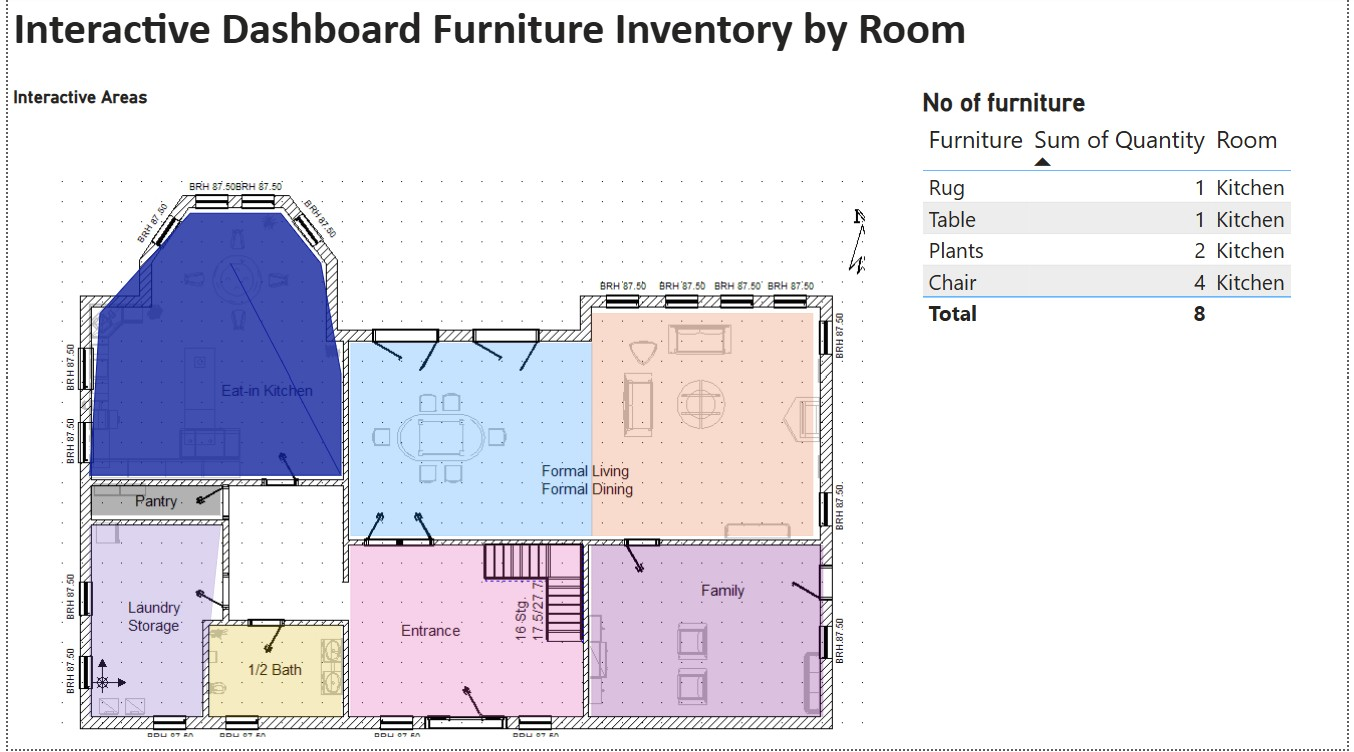

What the dashboard file says about the page in this screenshot:
{"tool":"powerbi","page":{"name":"Page 1","canvas":[1280,720],"ordinal":0},"visuals":[{"type":"tableEx","title":"No of furniture","fields":{"Values":["Furniture.Furniture","Sum(Rooms.Quantity)","Rooms.Room"]},"box":[869.3,88.2,394.1,634.1],"z":0},{"type":"PBI_CV_815282F9_27F5_4950_9430_E910E0A8DB6A","title":"Interactive Areas","fields":{"Category":["Rooms.Room"],"Y":["Sum(Rooms.Quantity)"]},"box":[0,88.2,830.5,631.7],"z":1000},{"type":"textbox","box":[0,0,1279.9,88.2],"z":2000}]}

Visuals, with their boxes in screenshot pixels (x1, y1, x2, y2), scaled from the page's 1280x720 canvas onto the 1354x752 screenshot:
"No of furniture" tableEx: (920, 92, 1336, 751)
"Interactive Areas" PBI_CV_815282F9_27F5_4950_9430_E910E0A8DB6A: (0, 92, 879, 751)
textbox: (0, 0, 1353, 92)
